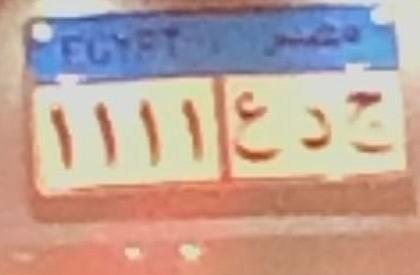1: (81, 77, 121, 194), (37, 82, 74, 182), (136, 78, 167, 176), (180, 91, 212, 173)
ج: (349, 73, 388, 158)
د: (287, 88, 353, 164)
ع: (230, 73, 285, 158)
